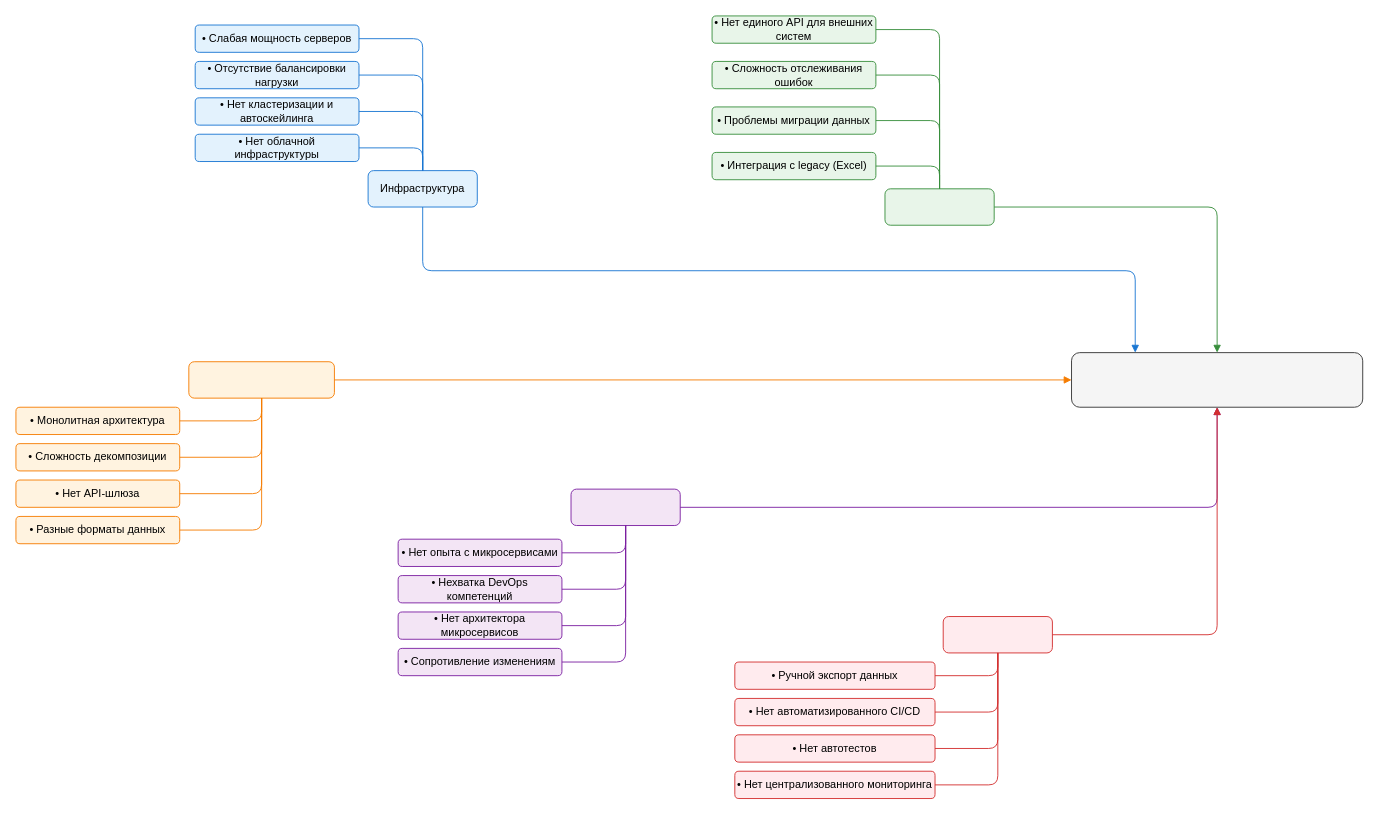
Some shapes in this 1379 by 814 pixel diagram are drawn without their labels. Each missing label, with the box of its shape:
Интеграция: (884, 188, 994, 225)
Персонал: (570, 488, 680, 526)
Программное обеспечение: (188, 361, 334, 398)
Процессы: (942, 616, 1052, 653)
Узкие места и риски при миграции с монолита на микросервисы: (1071, 352, 1363, 407)
